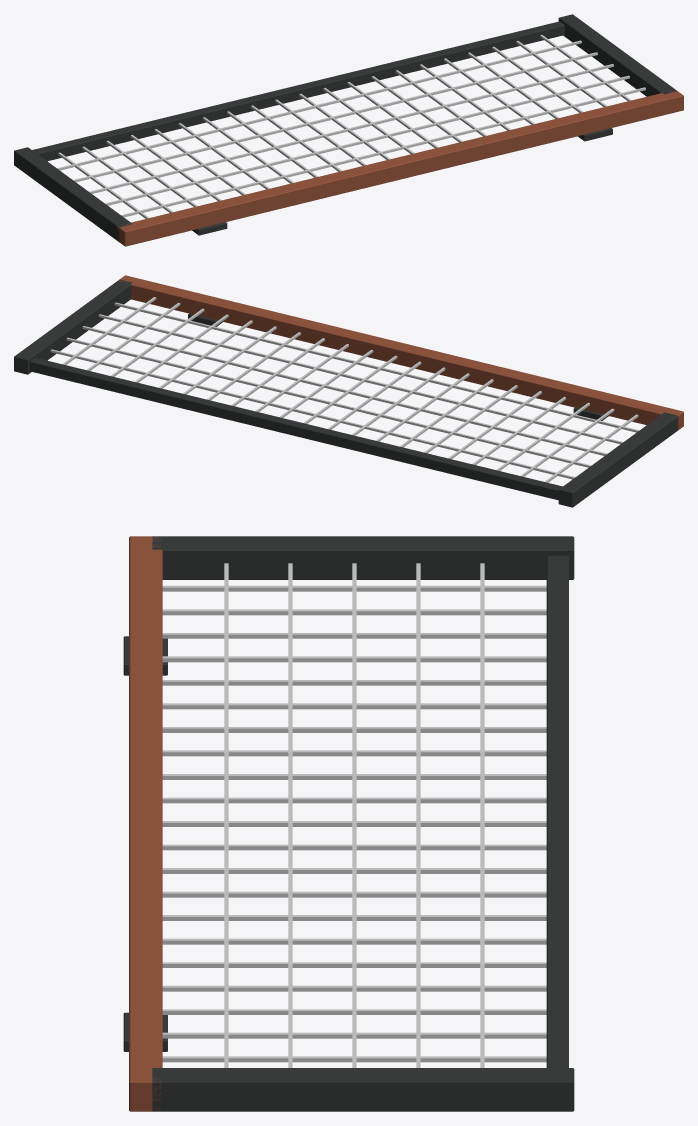
Rendered from mesh_pallet_box_front_flap.glb.
3 renders of one model, top to bottom at view 1: azimuth 30°, elevation 25°; view 2: azimuth 150°, elevation 25°; view 3: azimuth 270°, elevation 25°, orthographic. The views are drawn at different scales.
Parts seen in each view (by area): view 1: mesh_pallet_box_front_flap.001; view 2: mesh_pallet_box_front_flap.001; view 3: mesh_pallet_box_front_flap.001.
Boxes of the visible parts, bbox=[...] form: mesh_pallet_box_front_flap.001: bbox=[14, 14, 683, 246]; mesh_pallet_box_front_flap.001: bbox=[14, 275, 683, 507]; mesh_pallet_box_front_flap.001: bbox=[123, 536, 574, 1111].
Bounding box in the file's own units: 1.16 × 0.041 × 0.405.
